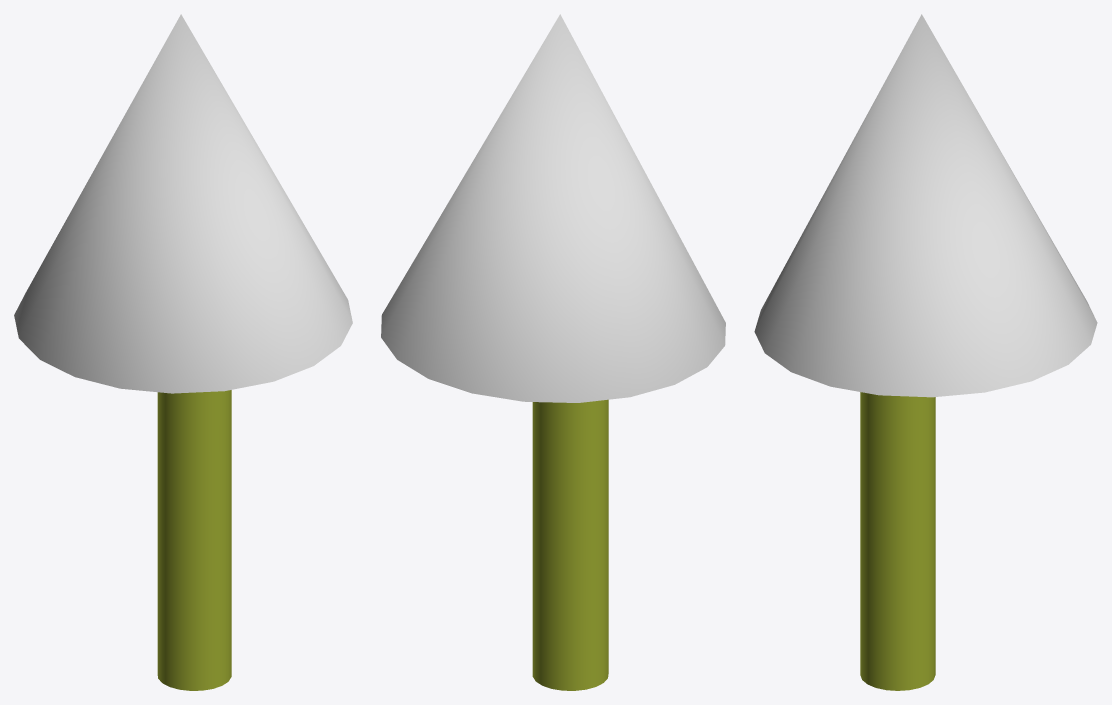
The model's file is left_foot.obj.
The picture shows the model from 3 angles, left to right: view 1: azimuth 30°, elevation 25°; view 2: azimuth 150°, elevation 25°; view 3: azimuth 270°, elevation 25°; orthographic projection. The views are drawn at different scales.
Parts seen in each view (by area): view 1: lest_foot:body13, lest_foot:leg_left_upper; view 2: lest_foot:body13, lest_foot:leg_left_upper; view 3: lest_foot:body13, lest_foot:leg_left_upper.
Boxes of the visible parts, x1,y1,x2,y2 form: lest_foot:body13: [14, 14, 352, 393]; lest_foot:leg_left_upper: [157, 390, 231, 690]; lest_foot:body13: [381, 14, 725, 402]; lest_foot:leg_left_upper: [532, 399, 608, 690]; lest_foot:body13: [754, 14, 1097, 397]; lest_foot:leg_left_upper: [860, 392, 935, 690].
Size of the model in its own units: 2 by 4.24 by 2.
